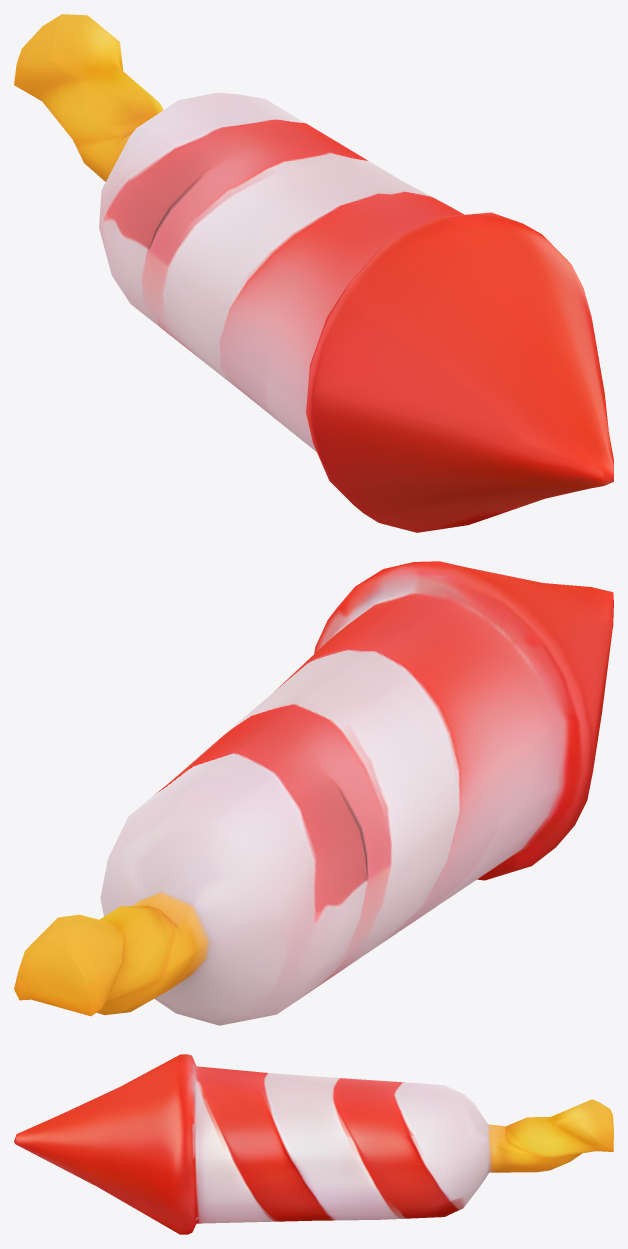
The model's file is base_basic_shaded.fbx.
3 renders of one model, top to bottom at view 1: azimuth 30°, elevation 25°; view 2: azimuth 150°, elevation 25°; view 3: azimuth 270°, elevation 25°, orthographic. The views are drawn at different scales.
Visible parts, largest first — view 1: model; view 2: model; view 3: model.
Part boxes in pixels (x1=…): model: x1=14, y1=14, x2=613, y2=532; model: x1=14, y1=561, x2=613, y2=1025; model: x1=14, y1=1054, x2=613, y2=1234.
Size of the model in its own units: 52.84 by 55.83 by 183.
